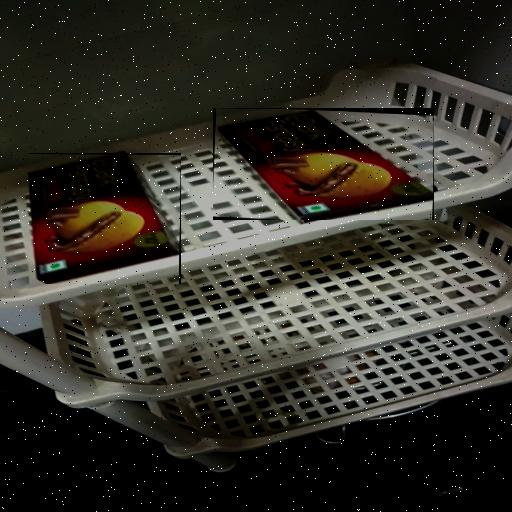Choco Fills: (213, 108, 434, 220), (29, 153, 181, 284)
